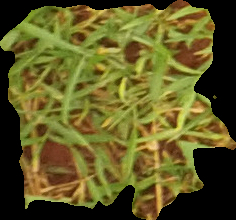grass: (1, 2, 234, 219)
